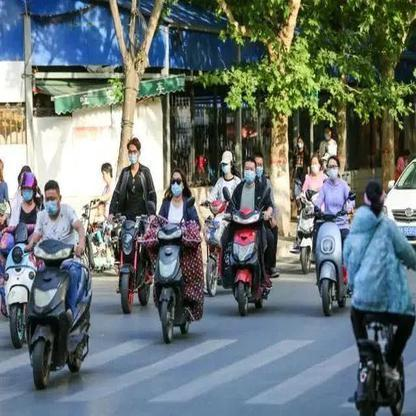target: (342, 181, 414, 414), (21, 180, 94, 391), (143, 169, 205, 344), (223, 160, 284, 318), (106, 136, 155, 314), (306, 156, 357, 316), (200, 150, 241, 298), (291, 154, 327, 273)
